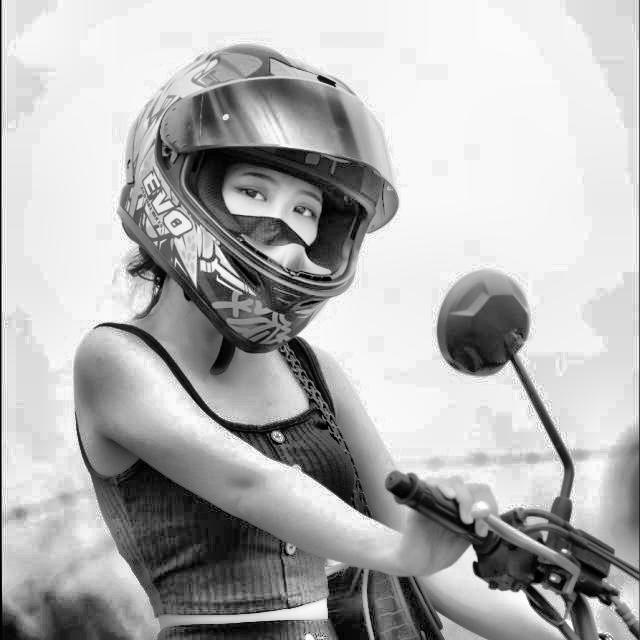Helmet: (112, 36, 404, 358)
